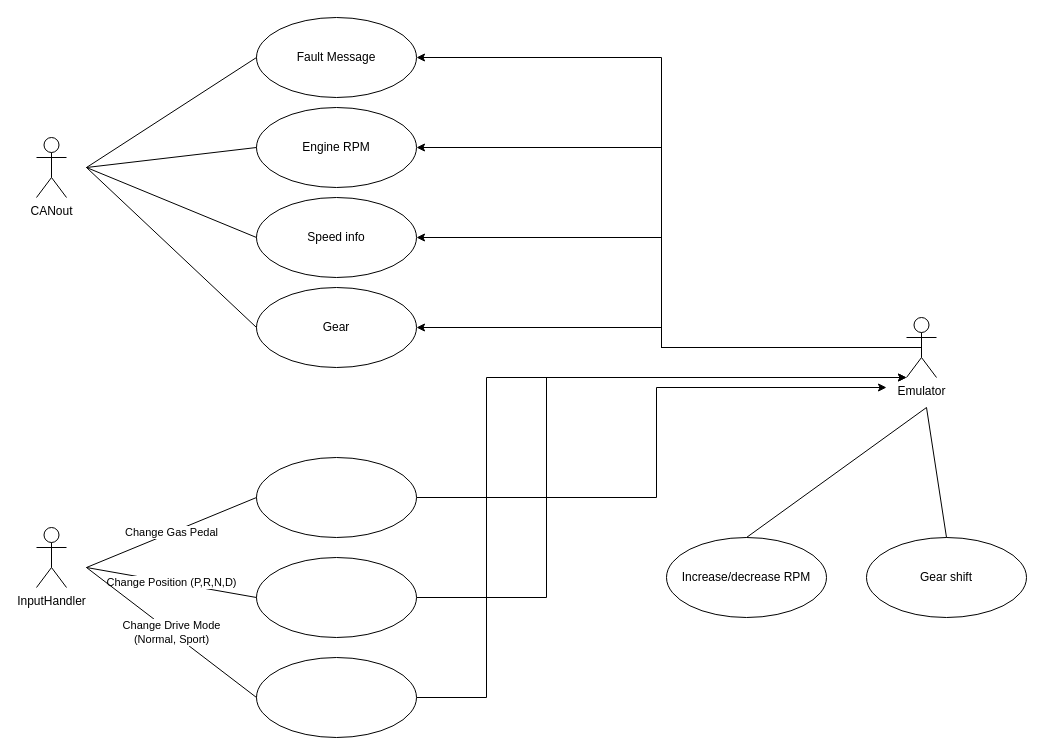
This 1044x755 diagram has some shape labels left out. The centre of each missing label's shape, as x and y in pixels:
"Change Drive Mode" goes at point 336,697.
"Change Position" goes at point 336,597.
"Change Speed" goes at point 336,497.
